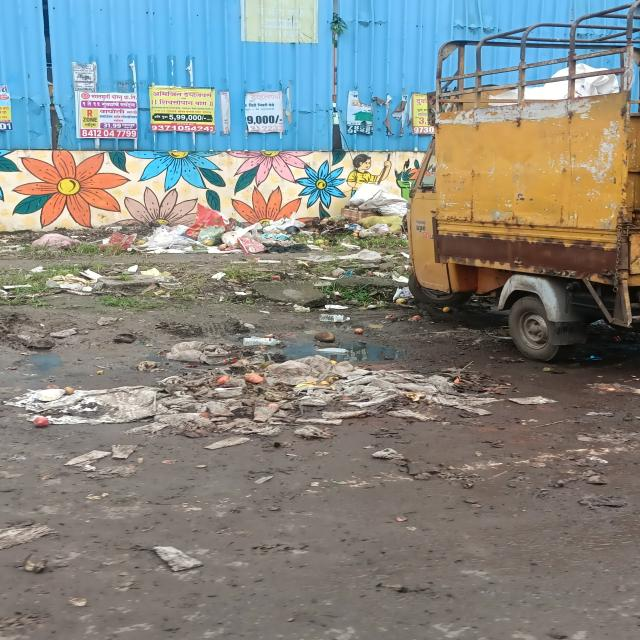garbage: (32, 346, 477, 444), (2, 195, 405, 252), (21, 259, 412, 315)
